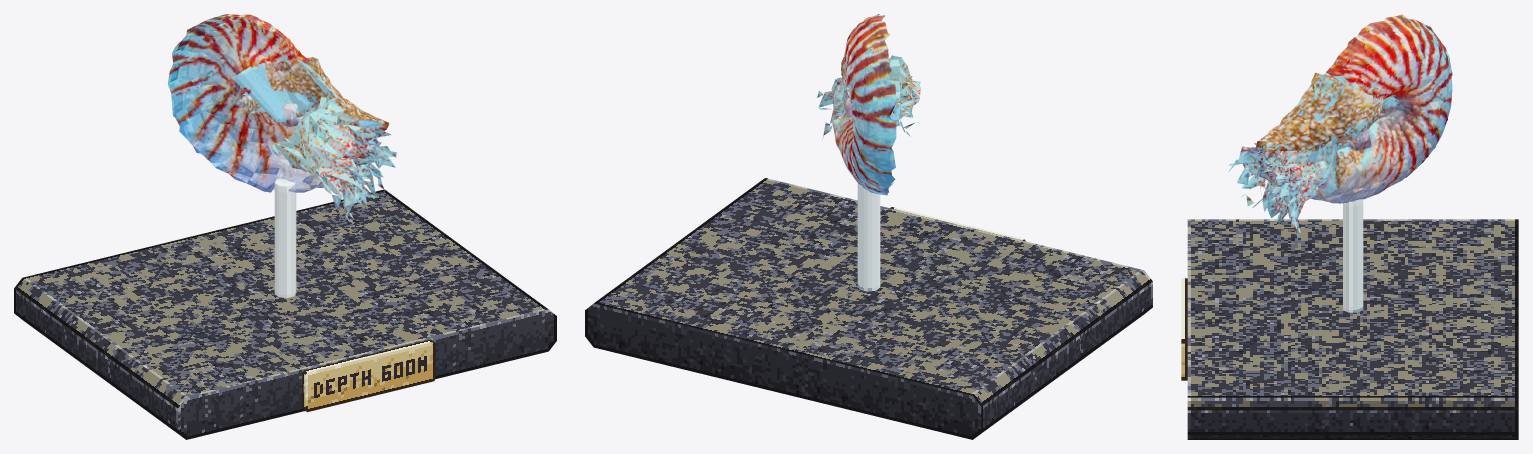
File: nautilus.glb
3 views of the same model, side by side, from view 1: azimuth 30°, elevation 25°; view 2: azimuth 150°, elevation 25°; view 3: azimuth 270°, elevation 25° (orthographic). The views are drawn at different scales.
Visible parts, largest first — view 1: base, model_naut, plate, rod; view 2: base, model_naut, rod; view 3: base, model_naut, rod, plate.
Part boxes in pixels (x1=…): base: x1=14, y1=189, x2=556, y2=439; model_naut: x1=167, y1=14, x2=396, y2=222; plate: x1=302, y1=339, x2=435, y2=412; rod: x1=274, y1=178, x2=296, y2=297; base: x1=585, y1=178, x2=1152, y2=439; model_naut: x1=817, y1=14, x2=920, y2=195; rod: x1=857, y1=183, x2=880, y2=291; base: x1=1187, y1=219, x2=1518, y2=439; model_naut: x1=1228, y1=14, x2=1452, y2=240; rod: x1=1343, y1=199, x2=1363, y2=312; plate: x1=1181, y1=278, x2=1187, y2=380.
Size of the model in its own units: 32 by 25.4 by 24.45.
Materials: 2 (2 with a texture image).
